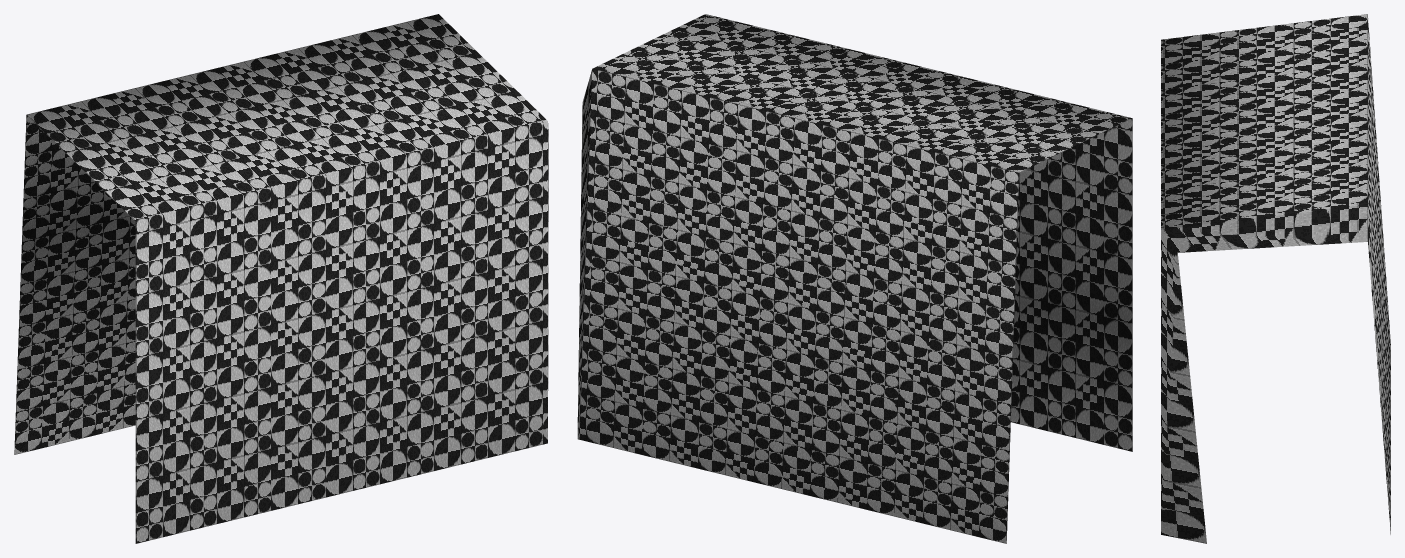
Rendered from 4625floor000_c.gltf.
3 views of the same model, side by side, from view 1: azimuth 30°, elevation 25°; view 2: azimuth 150°, elevation 25°; view 3: azimuth 270°, elevation 25° (orthographic). The views are drawn at different scales.
Parts seen in each view (by area): view 1: 4625floor000_c; view 2: 4625floor000_c; view 3: 4625floor000_c.
Part boxes in pixels (x1=…): 4625floor000_c: x1=14, y1=14, x2=548, y2=543; 4625floor000_c: x1=577, y1=14, x2=1132, y2=543; 4625floor000_c: x1=1161, y1=14, x2=1390, y2=543.
Bounding box in the file's own units: 2.05 × 1.59 × 1.
1 material, 1 textured.
